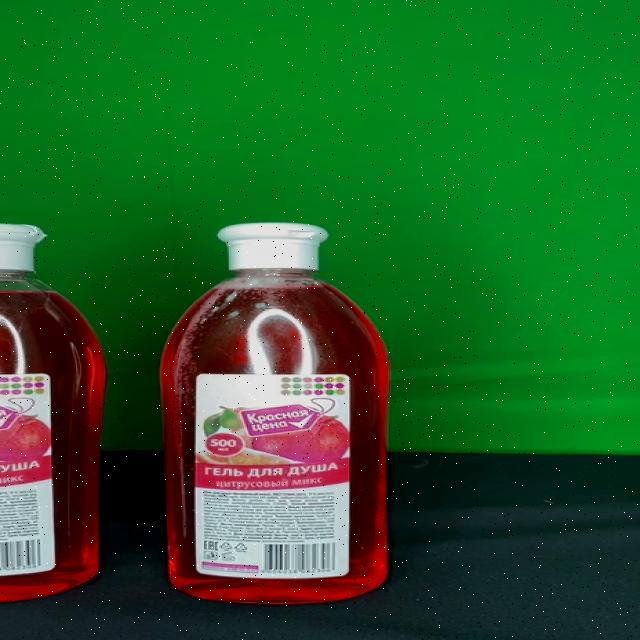Bottle: (160, 220, 386, 604)
Cap: (218, 222, 328, 270)
